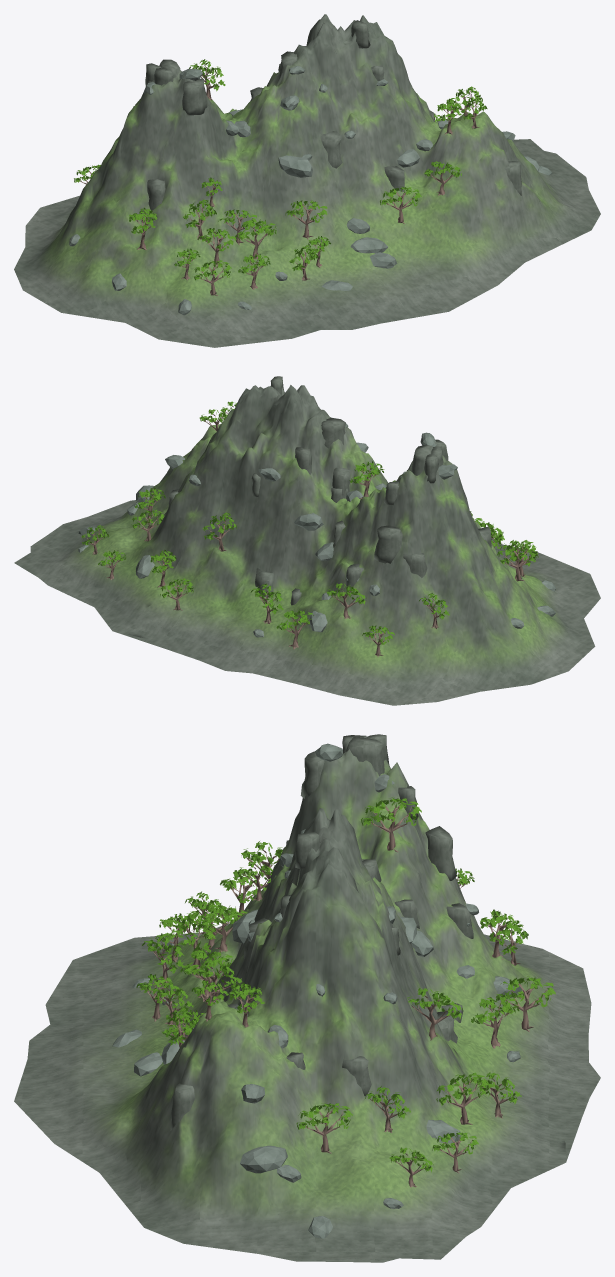
The model's file is thach-linh.glb.
The picture shows the model from 3 angles, top to bottom: view 1: azimuth 30°, elevation 25°; view 2: azimuth 150°, elevation 25°; view 3: azimuth 270°, elevation 25°; orthographic projection. The views are drawn at different scales.
Parts seen in each view (by area): view 1: Thạch Lĩnh · weathered mountain, Thạch Lĩnh fractured bedrock.011, Thạch Lĩnh talus.033, Thạch Lĩnh fractured bedrock.001, Thạch Lĩnh talus.038, Thạch Lĩnh fractured bedrock.004, Thạch Lĩnh canopy.002; view 2: Thạch Lĩnh · weathered mountain, Thạch Lĩnh fractured bedrock.010, Thạch Lĩnh fractured bedrock; view 3: Thạch Lĩnh · weathered mountain, Thạch Lĩnh fractured bedrock.010, Thạch Lĩnh talus.018, Thạch Lĩnh fractured bedrock.013, Thạch Lĩnh canopy.002, Thạch Lĩnh canopy.015, Thạch Lĩnh canopy.024, Thạch Lĩnh fractured bedrock.009, Thạch Lĩnh fractured bedrock.011.
Part boxes in pixels (box(x1,y1,x2,y2)): Thạch Lĩnh · weathered mountain: box(14, 14, 600, 347); Thạch Lĩnh fractured bedrock.011: box(182, 78, 207, 115); Thạch Lĩnh talus.033: box(278, 155, 312, 177); Thạch Lĩnh fractured bedrock.001: box(320, 131, 342, 168); Thạch Lĩnh talus.038: box(350, 237, 387, 253); Thạch Lĩnh fractured bedrock.004: box(147, 179, 165, 210); Thạch Lĩnh canopy.002: box(235, 219, 276, 240); Thạch Lĩnh · weathered mountain: box(14, 385, 600, 705); Thạch Lĩnh fractured bedrock.010: box(374, 525, 402, 563); Thạch Lĩnh fractured bedrock: box(321, 417, 345, 448); Thạch Lĩnh · weathered mountain: box(14, 749, 600, 1262); Thạch Lĩnh fractured bedrock.010: box(425, 826, 456, 880); Thạch Lĩnh talus.018: box(240, 1145, 287, 1173); Thạch Lĩnh fractured bedrock.013: box(346, 737, 384, 775); Thạch Lĩnh canopy.002: box(175, 910, 216, 952); Thạch Lĩnh canopy.015: box(361, 797, 421, 826); Thạch Lĩnh canopy.024: box(436, 1072, 490, 1105); Thạch Lĩnh fractured bedrock.009: box(170, 1083, 195, 1130); Thạch Lĩnh fractured bedrock.011: box(300, 751, 324, 798).
Bounding box in the file's own units: 131 × 49.55 × 90.72.
Materials: 4 (4 with a texture image).
